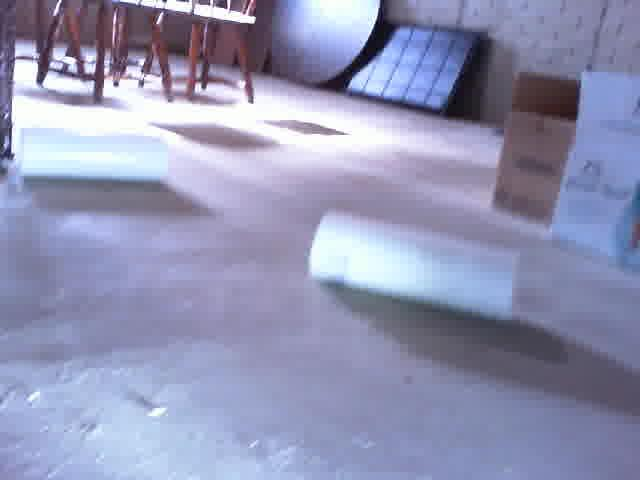coral: (303, 205, 522, 325), (15, 118, 177, 189)
